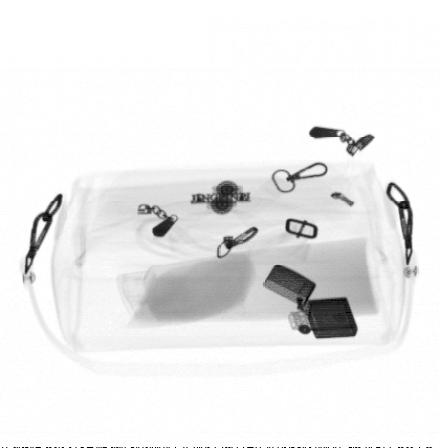Lighter: (261, 264, 359, 339)
